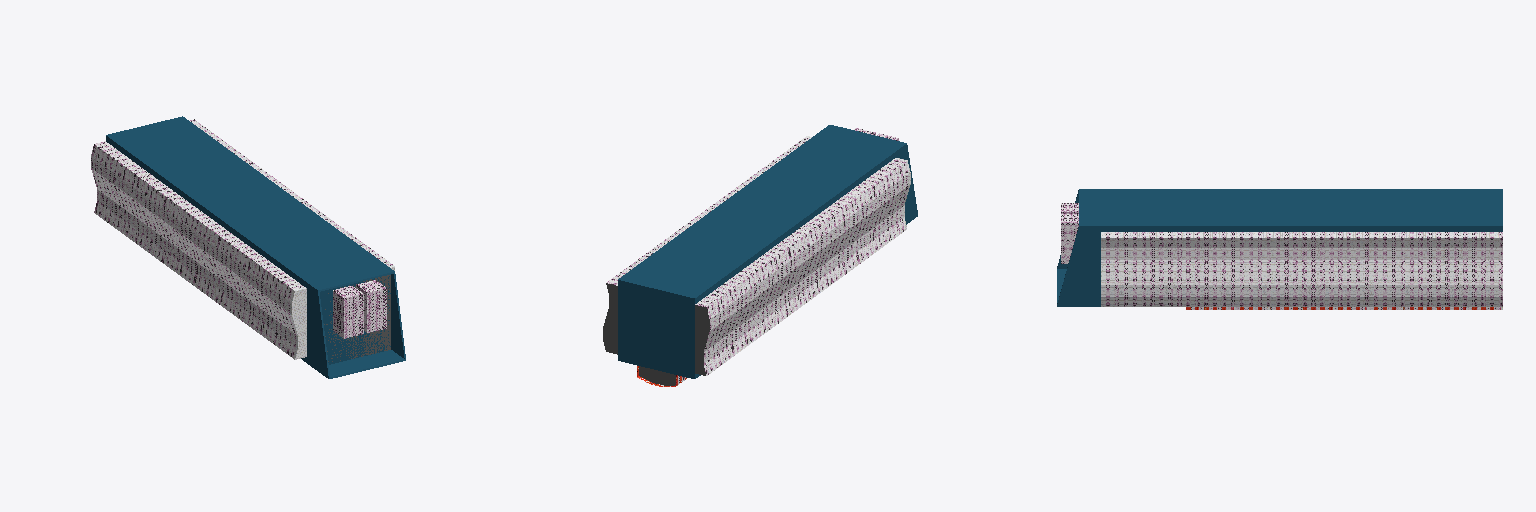
3 views of the same model, side by side, from view 1: azimuth 30°, elevation 25°; view 2: azimuth 150°, elevation 25°; view 3: azimuth 270°, elevation 25° (orthographic).
Parts seen in each view (by area): view 1: glass_01, wall___grey_01, wall___blue_01, slab_01; view 2: glass_01, wall___grey_01, wall___blue_01, slab_01; view 3: glass_01, wall___grey_01, wall___blue_01.
Boxes of the visible parts, box(x1,y1,x2,y2) form: glass_01: box(106, 116, 405, 378); wall___grey_01: box(91, 119, 392, 357); wall___blue_01: box(93, 121, 394, 359); slab_01: box(324, 275, 390, 361); glass_01: box(618, 125, 917, 378); wall___grey_01: box(607, 128, 907, 384); wall___blue_01: box(609, 136, 910, 373); slab_01: box(603, 283, 709, 385); glass_01: box(1057, 189, 1502, 306); wall___grey_01: box(1061, 203, 1502, 309); wall___blue_01: box(1101, 232, 1498, 306).
Size of the model in its own units: 1249 by 1088 by 4534.
5 materials, 3 textured.